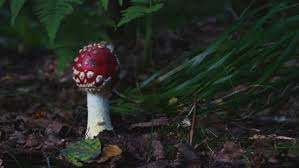Amanita muscaria: (66, 35, 122, 138)
